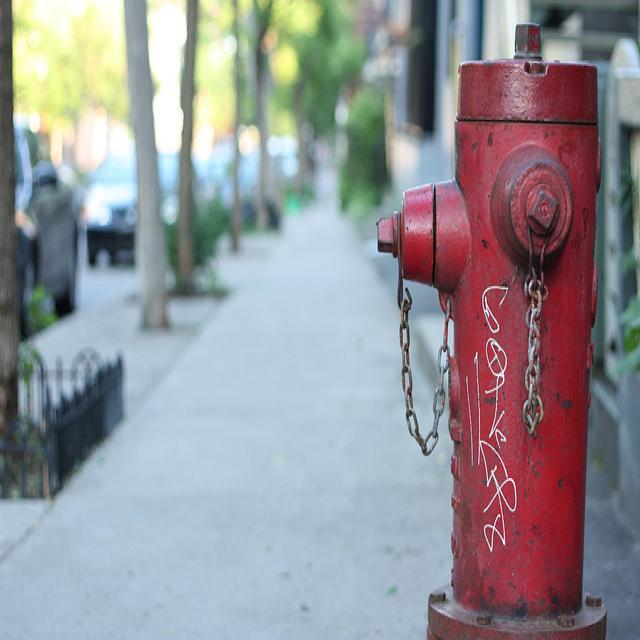fire_hydrant: (376, 25, 606, 631)
